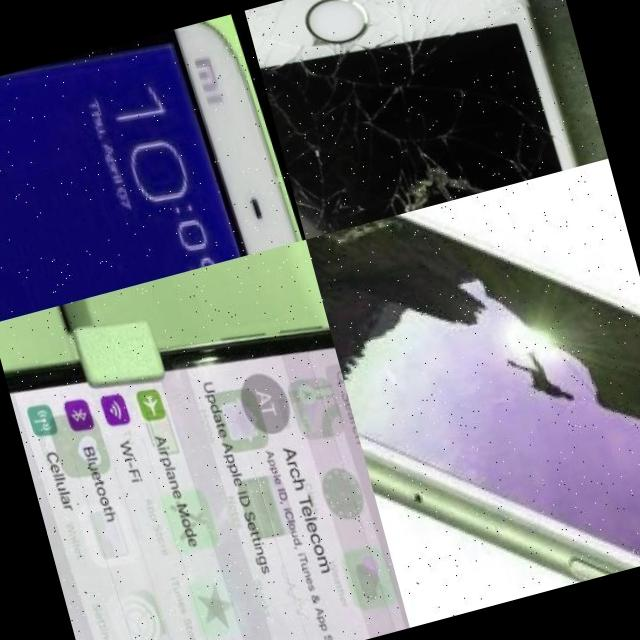screen crack: (243, 0, 581, 238)
